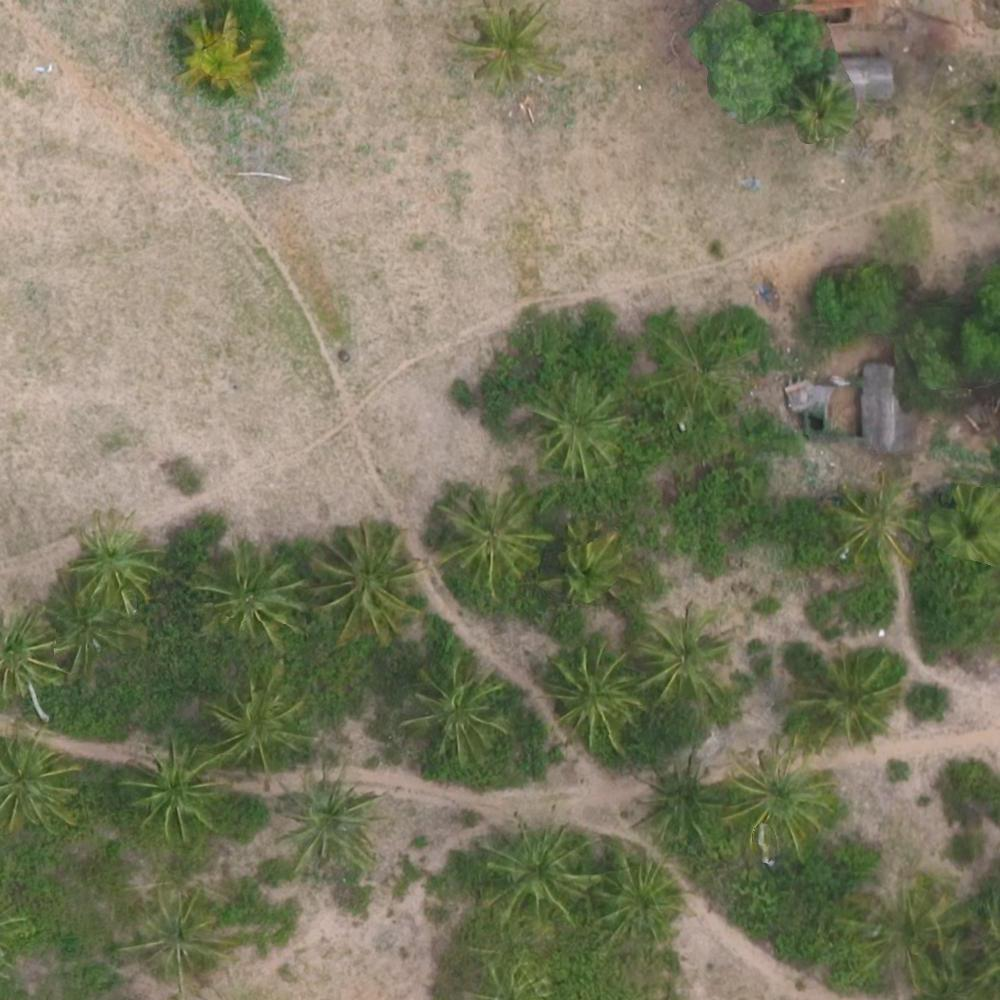Palm: (478, 818, 591, 925), (310, 529, 420, 634), (542, 646, 651, 749), (729, 744, 835, 849), (211, 667, 317, 765), (129, 886, 235, 984), (275, 779, 380, 877), (408, 661, 513, 759), (441, 488, 545, 586), (797, 646, 900, 740), (201, 542, 296, 642), (121, 746, 219, 839), (528, 382, 620, 476), (1, 733, 85, 835), (597, 847, 684, 940), (641, 611, 730, 701), (829, 471, 915, 561), (465, 14, 559, 95), (177, 16, 264, 101), (72, 517, 153, 607)
